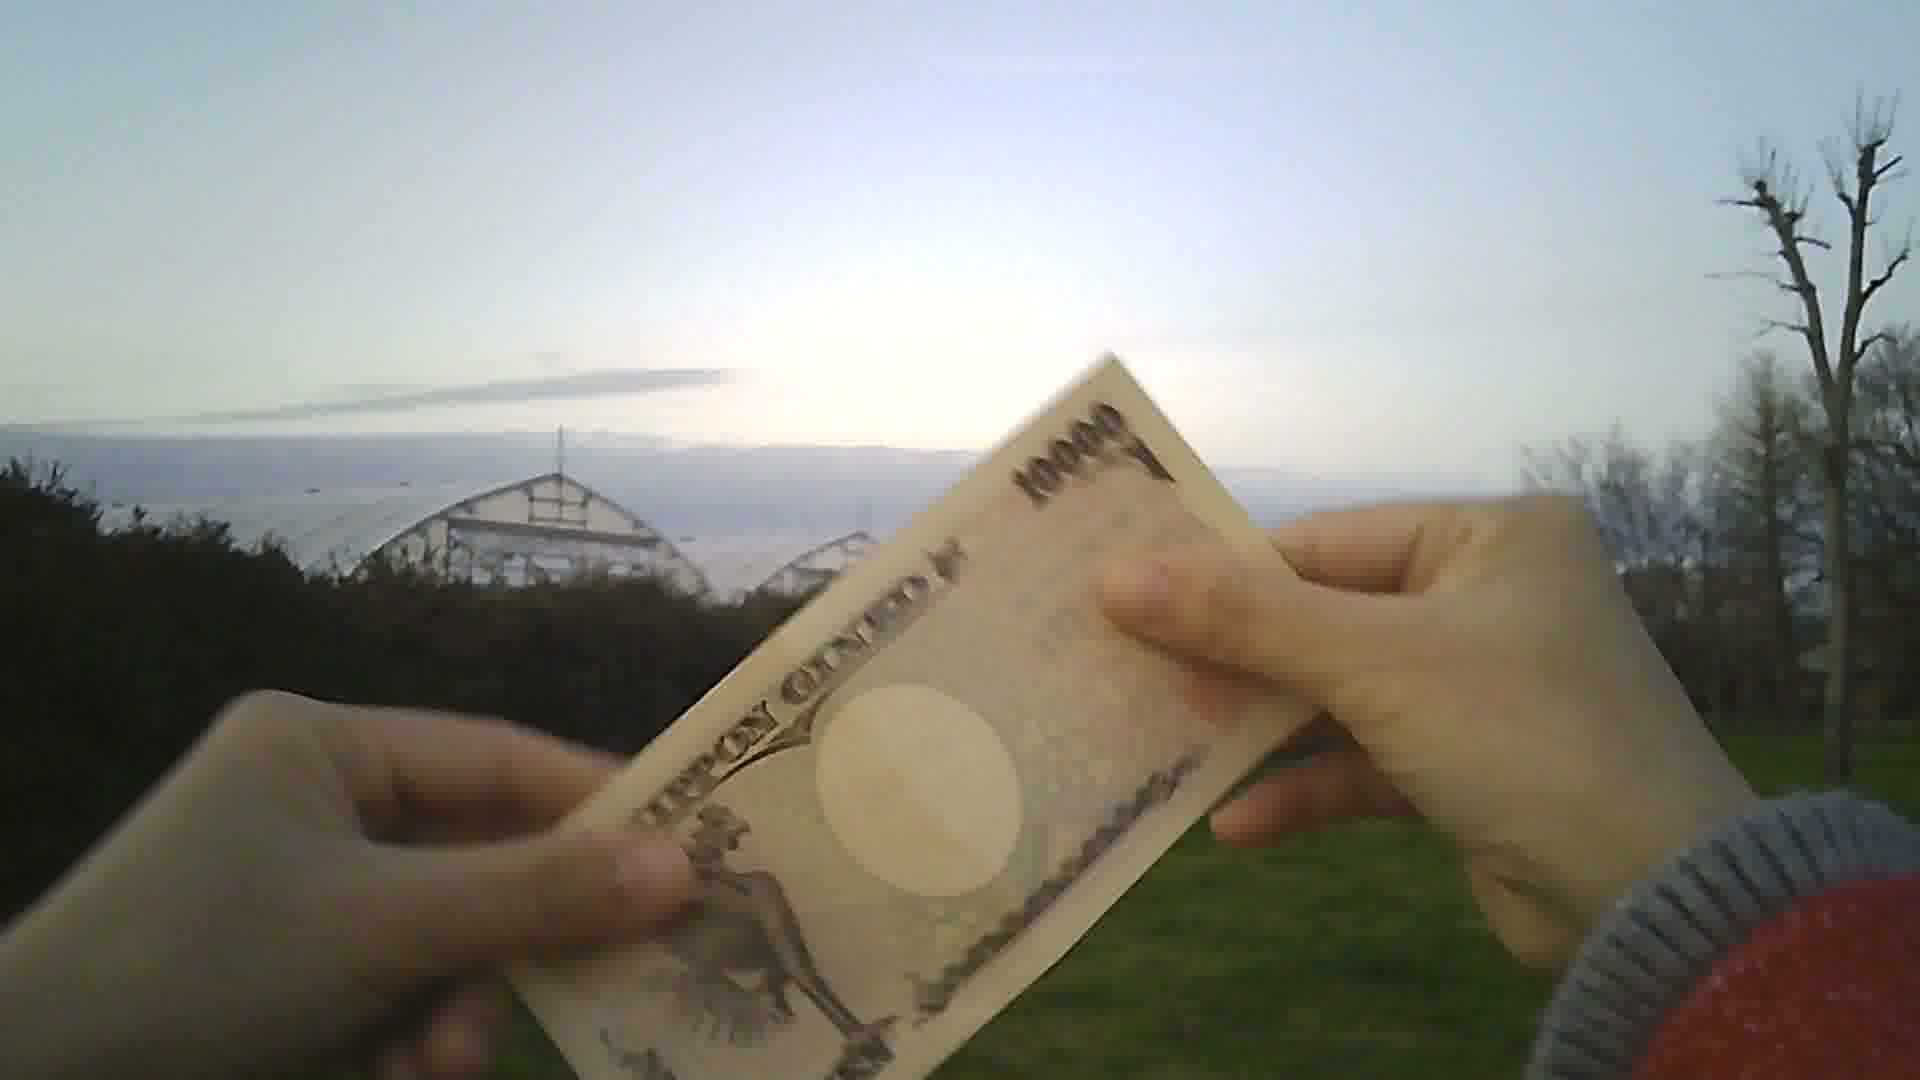10,000 Yen: (462, 342, 1337, 1079)
